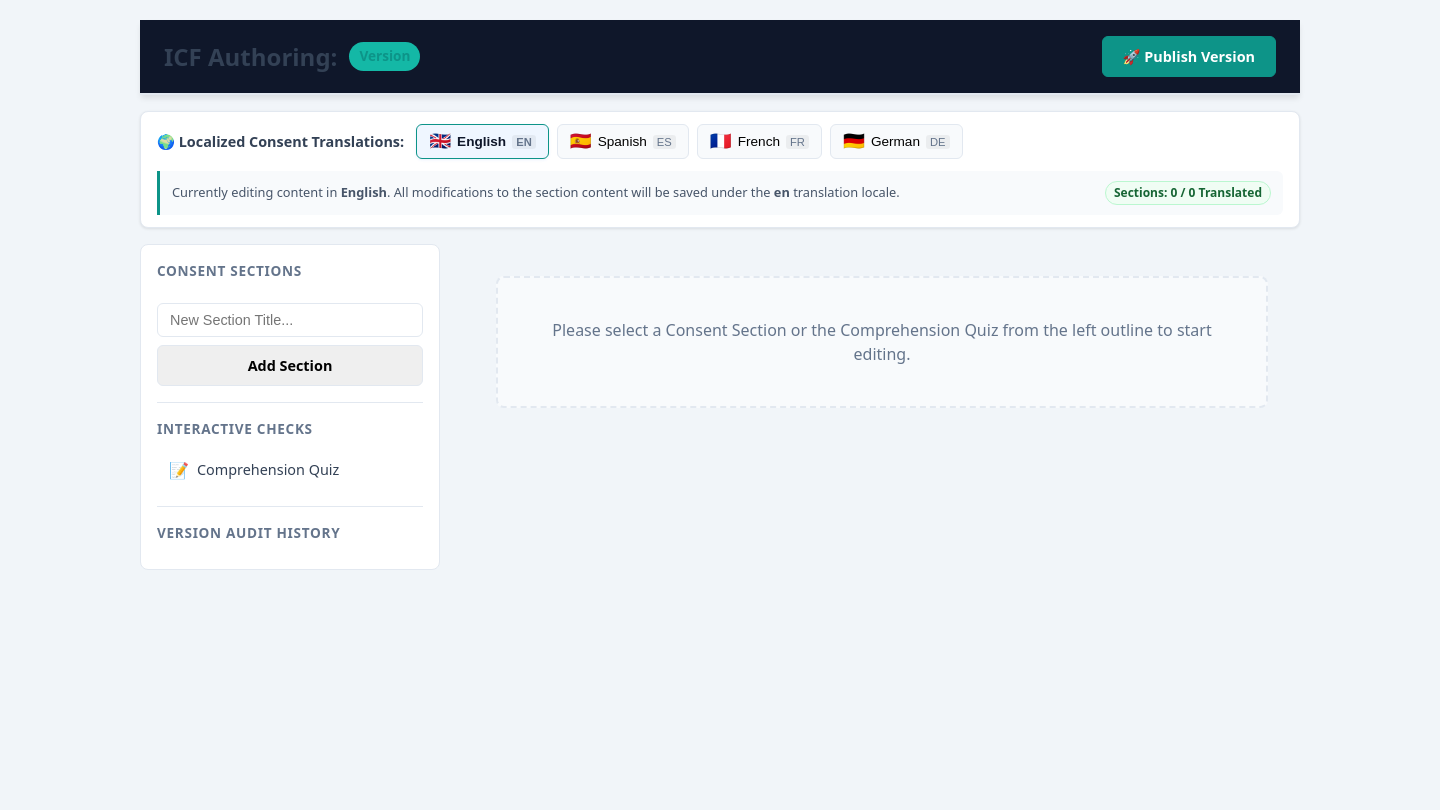
Test case: ICFBuilderView.vue and Pinia Store Unit Tests › prompts for change justification and increments the version index when publishing (v1.0 -> v2.0)
Click the button with class "btn-publish" at (1189, 56), box [1102, 36, 1276, 77]
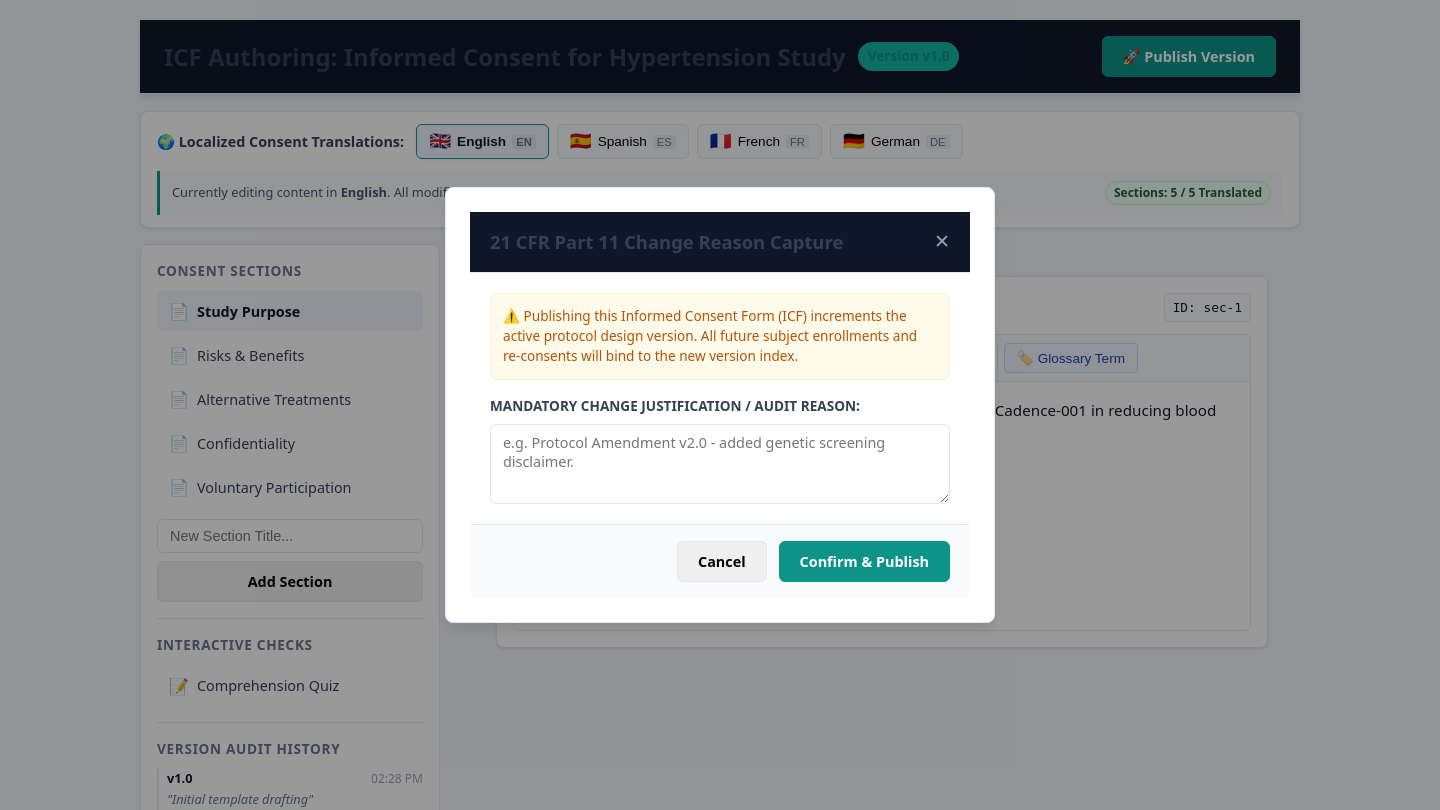
Expected: the element that starts with "21 CFR Part 11 Change Reason Capture" is shown
Expected: the button "Confirm & Publish" is shown
Click the button "Confirm & Publish" at (864, 562), box [779, 541, 950, 582]
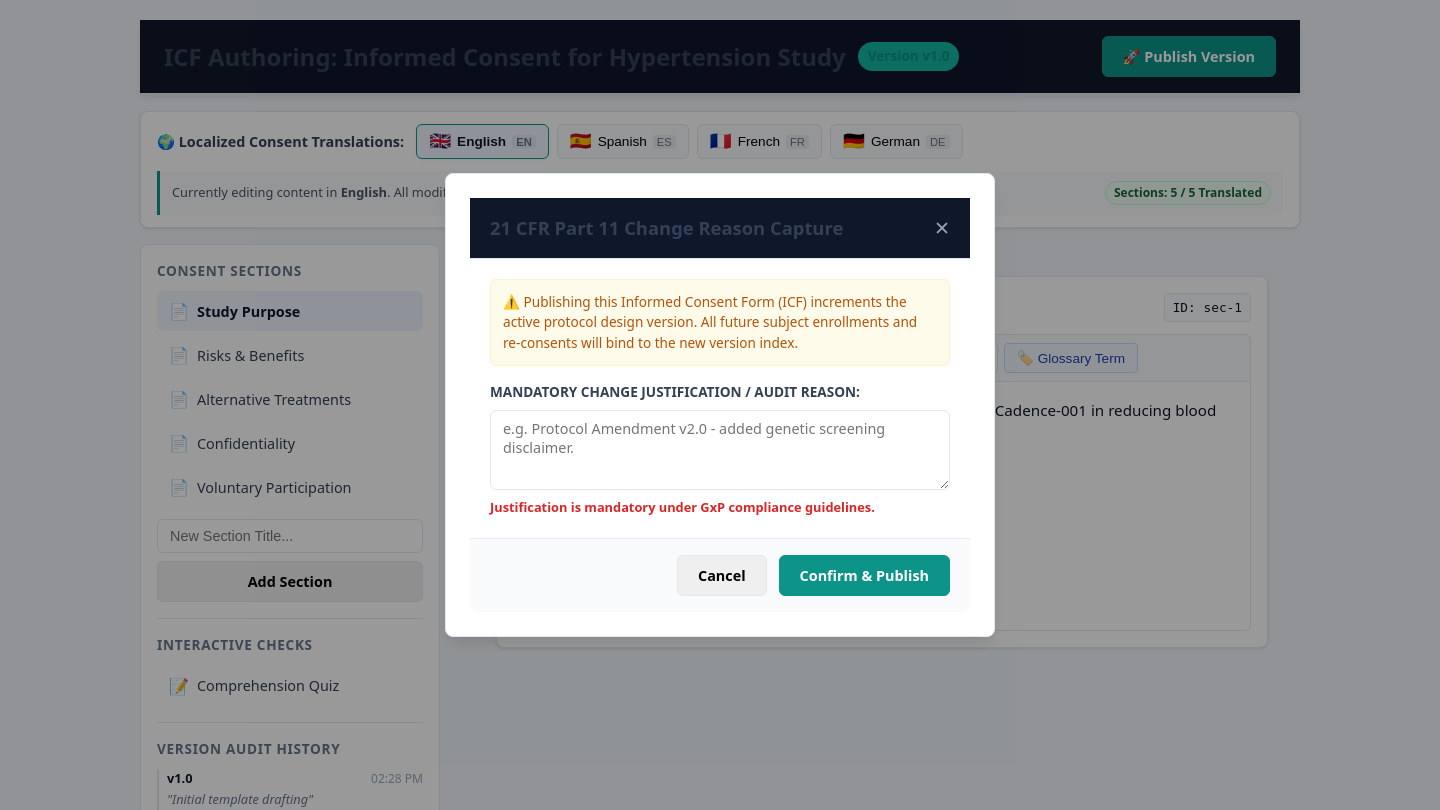
Expected: the element that starts with "21 CFR Part 11 Change Reason Capture" is shown
Expected: the text box labelled "Mandatory Change Justification / Audit Reason:" is shown
Expected: the text with class "error-text" shows "Justification is mandatory", [490, 498, 875, 516]
Replace the text in the text box labelled "Mandatory Change Justification / Audit Reason:" with "Protocol amendment update with genetic screening disclaimers" at (720, 450), box [490, 410, 950, 490]
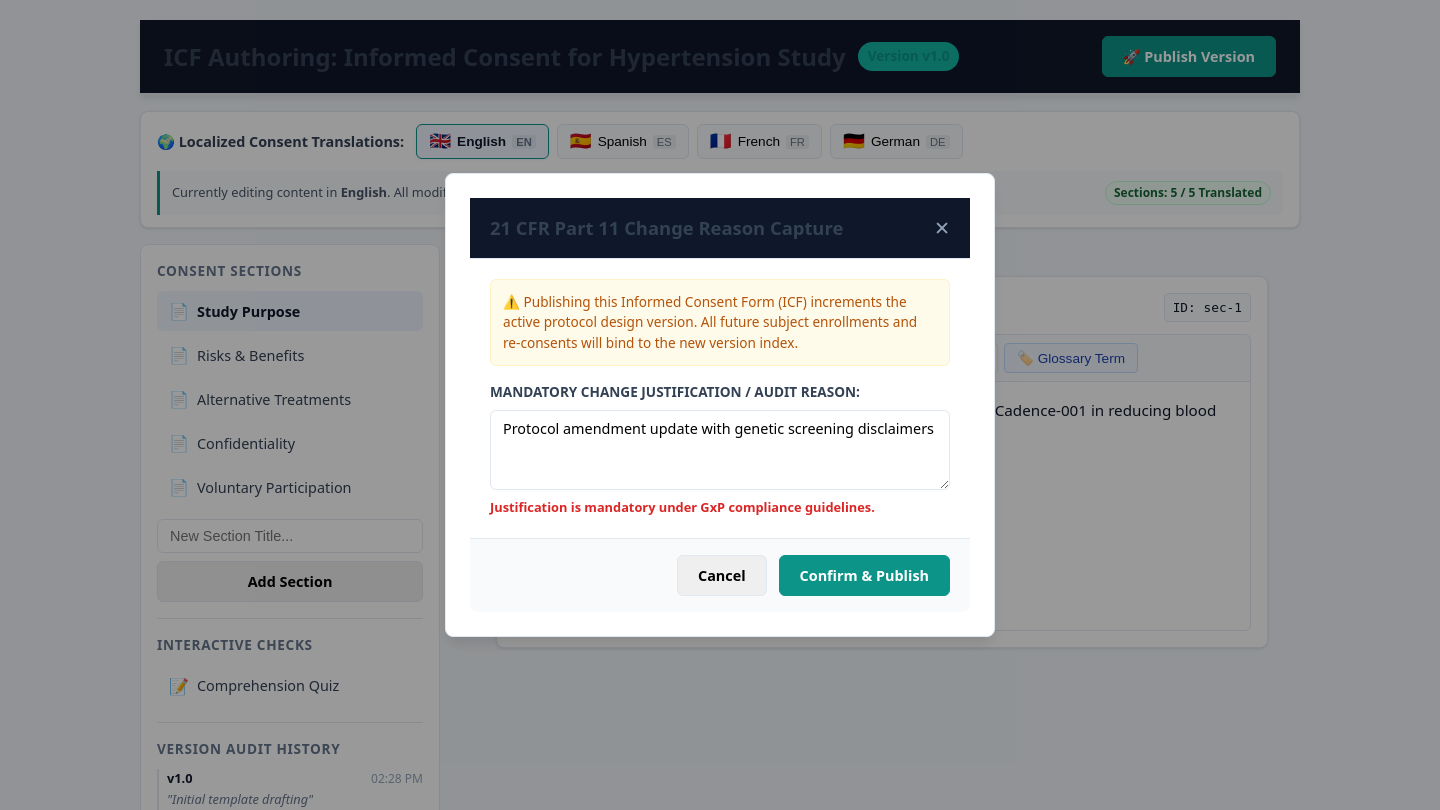
Note: Confirm and publish
Click the button "Confirm & Publish" at (864, 575), box [779, 555, 950, 596]
(page scrolled)
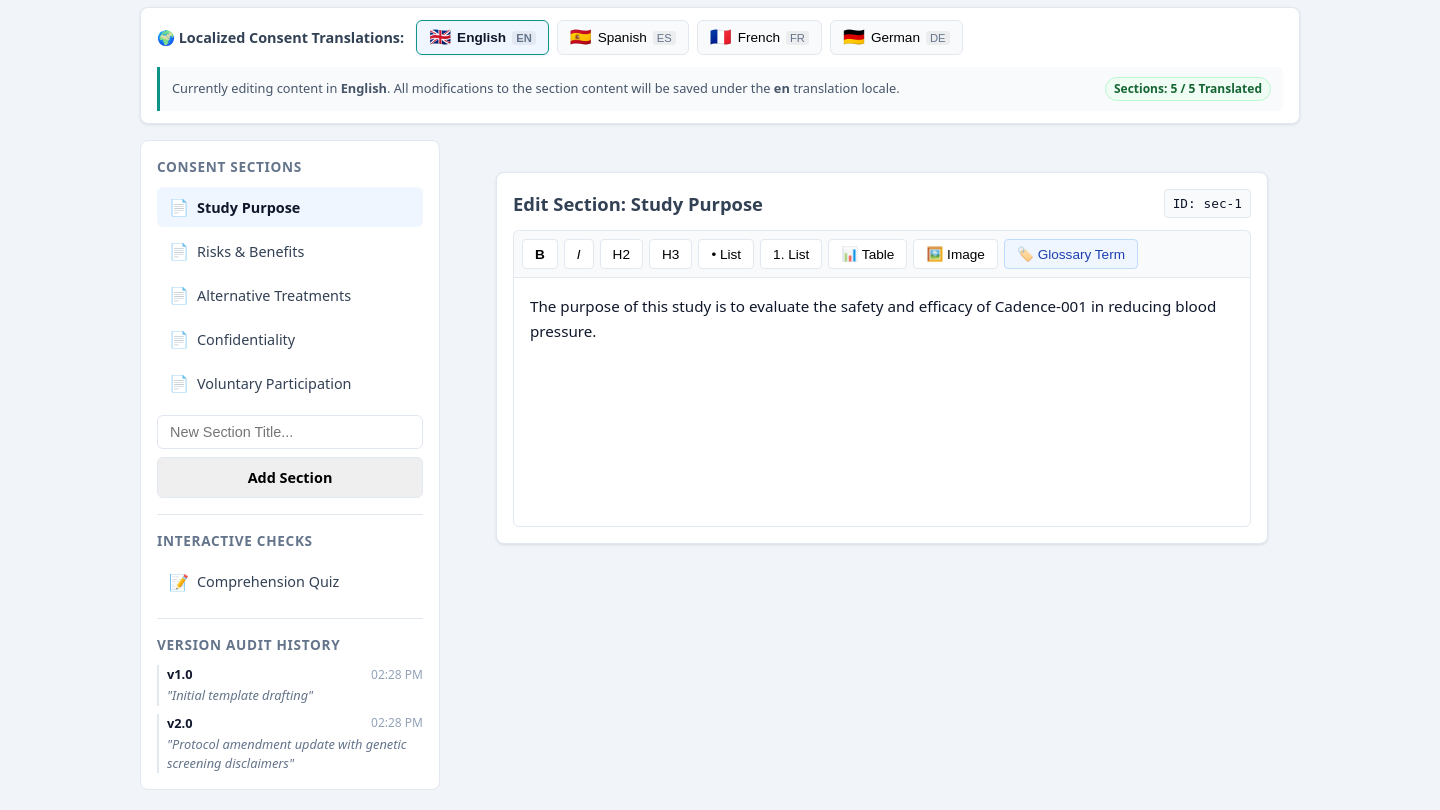
Expected: the text "v2.0" is shown, [167, 714, 193, 733]
